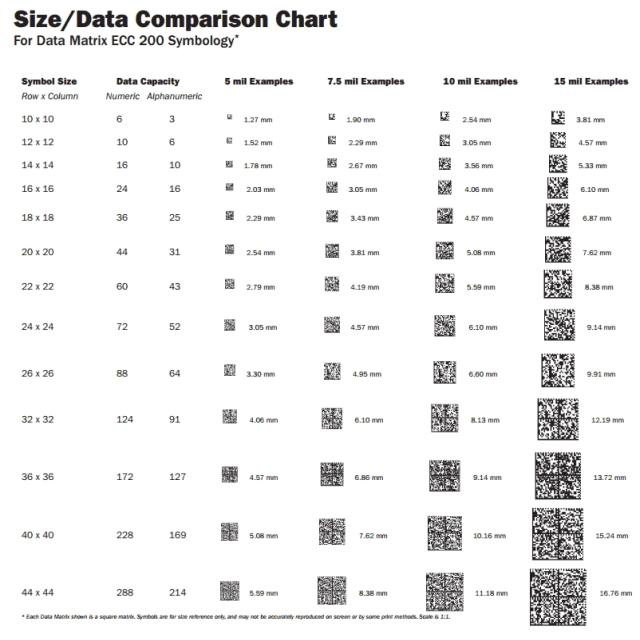datamatrix: (526, 564, 590, 628), (528, 501, 588, 564), (530, 447, 586, 504), (534, 392, 583, 444), (420, 566, 467, 614), (420, 507, 466, 556), (422, 455, 466, 498), (424, 397, 464, 438), (314, 570, 351, 610), (314, 457, 350, 492), (315, 514, 349, 550), (317, 403, 347, 433)
